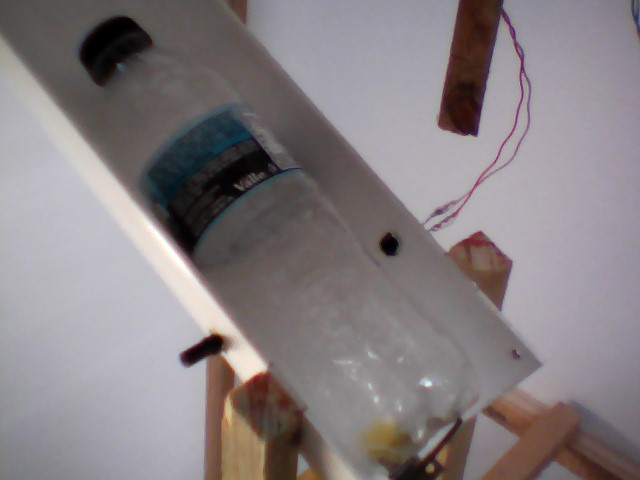plastico: (66, 6, 489, 480)
